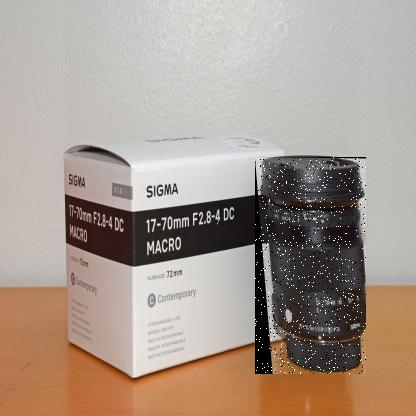Camera: (256, 158, 368, 376)
